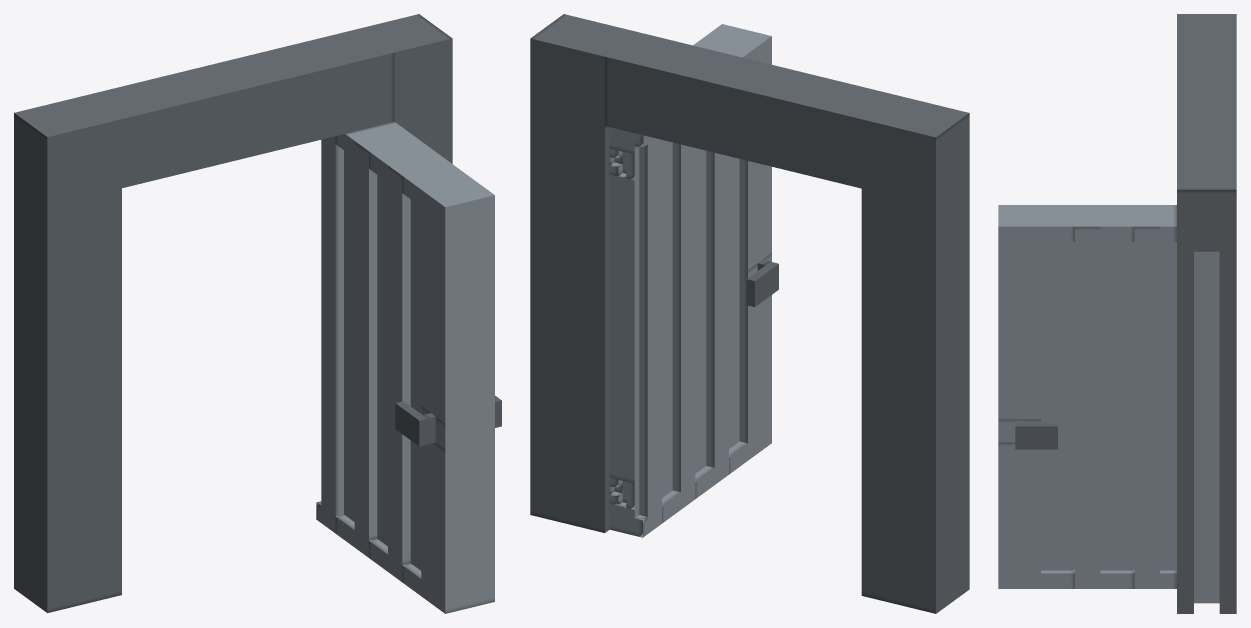
The model's file is dzw_2_o_sier.dae.
3 renders of one model, left to right at view 1: azimuth 30°, elevation 25°; view 2: azimuth 150°, elevation 25°; view 3: azimuth 270°, elevation 25°, orthographic. The views are drawn at different scales.
Parts seen in each view (by area): view 1: Content; view 2: Content; view 3: Content.
Boxes of the visible parts, x1,y1,x2,y2 form: Content: (14, 14, 501, 613); Content: (530, 14, 969, 613); Content: (998, 14, 1236, 613).
Bounding box in the file's own units: 49 × 55 × 28.
1 material, 1 textured.
